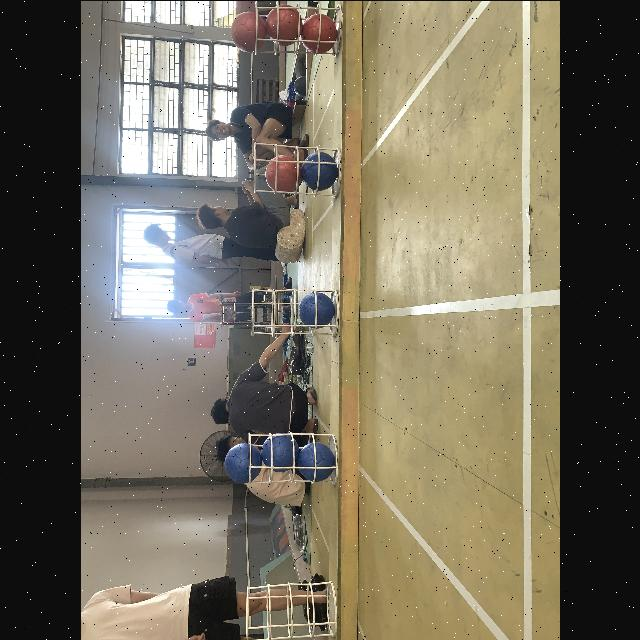B: (260, 432, 298, 472), (298, 442, 334, 482), (224, 442, 260, 482), (299, 290, 335, 328), (301, 152, 337, 190)
R: (265, 3, 301, 45), (300, 13, 338, 52), (265, 155, 301, 191), (232, 11, 264, 51)
